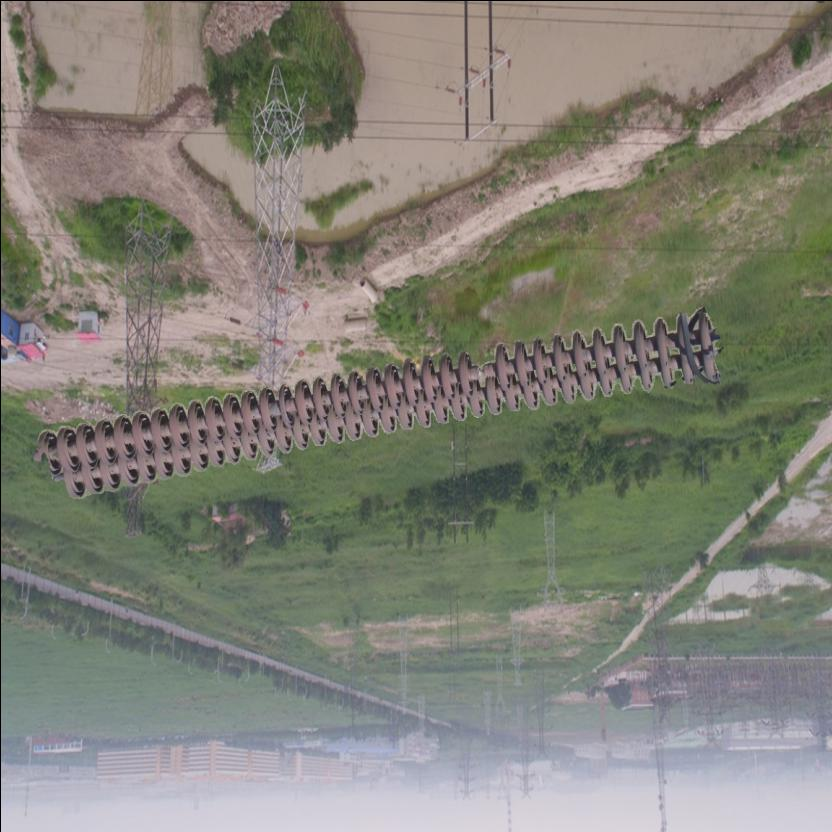defect: (449, 344, 512, 398)
